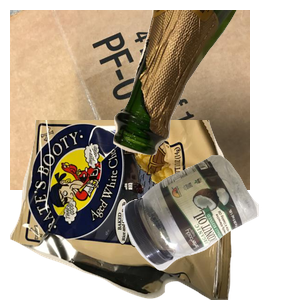cardboard: (10, 10, 250, 190)
glass: (111, 10, 300, 158)
plastic: (120, 152, 300, 300)
trash: (10, 120, 235, 300)
